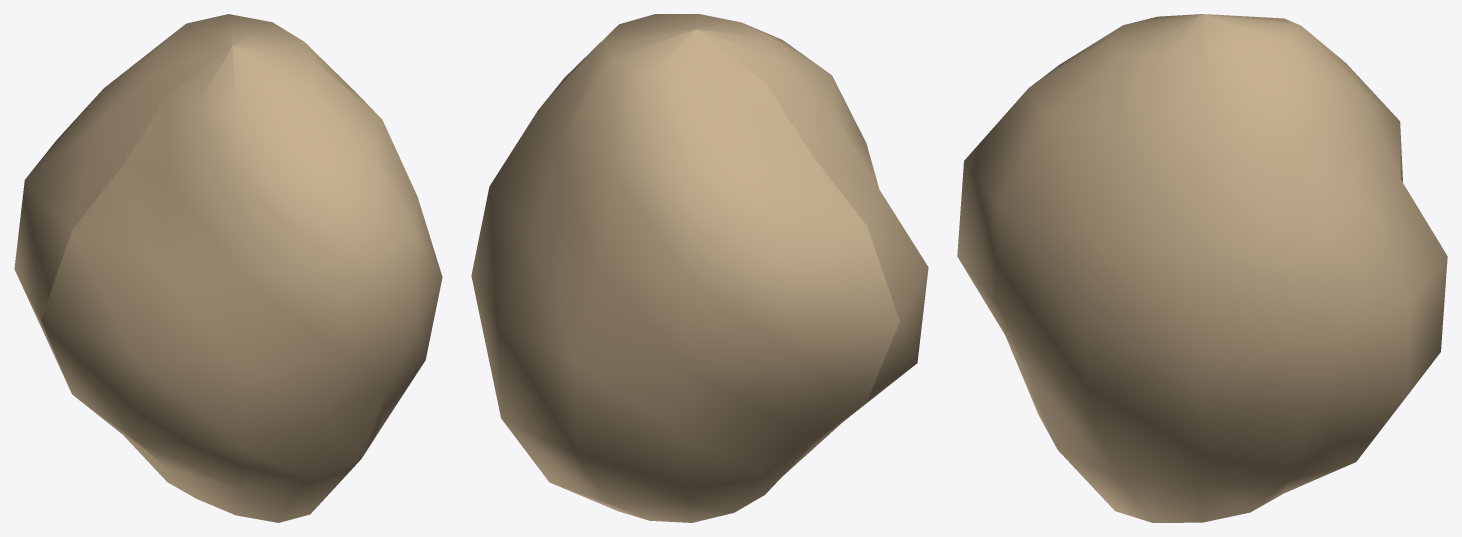
The model's file is right_trapezoid.glb.
3 views of the same model, side by side, from view 1: azimuth 30°, elevation 25°; view 2: azimuth 150°, elevation 25°; view 3: azimuth 270°, elevation 25° (orthographic). The views are drawn at different scales.
Visible parts, largest first — view 1: right_trapezoid:body; view 2: right_trapezoid:body; view 3: right_trapezoid:body.
Boxes of the visible parts, x1,y1,x2,y2 form: right_trapezoid:body: (14, 14, 442, 522); right_trapezoid:body: (471, 14, 928, 522); right_trapezoid:body: (957, 14, 1447, 522).
Bounding box in the file's own units: 0.0987 × 0.1128 × 0.1034.
